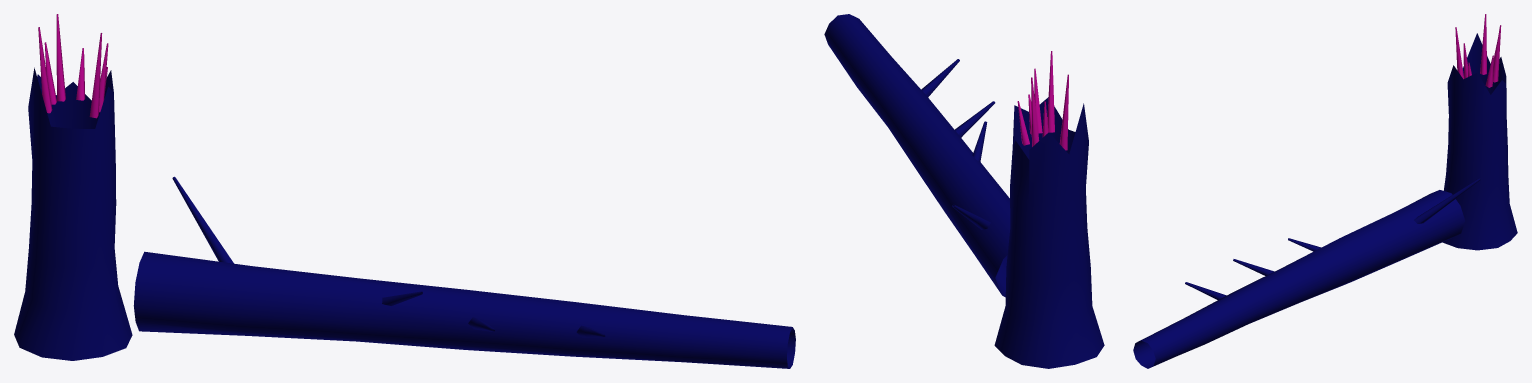
The model's file is PROP_PC_BrokenTree_B.fbx.
3 renders of one model, left to right at view 1: azimuth 30°, elevation 25°; view 2: azimuth 150°, elevation 25°; view 3: azimuth 270°, elevation 25°, orthographic. The views are drawn at different scales.
Visible parts, largest first — view 1: PROP_PC_BrokenTree_B_LOD0; view 2: PROP_PC_BrokenTree_B_LOD0; view 3: PROP_PC_BrokenTree_B_LOD0.
Boxes of the visible parts, x1=… form: PROP_PC_BrokenTree_B_LOD0: x1=14, y1=14, x2=795, y2=368; PROP_PC_BrokenTree_B_LOD0: x1=824, y1=14, x2=1104, y2=368; PROP_PC_BrokenTree_B_LOD0: x1=1133, y1=14, x2=1517, y2=368.
Size of what is drawn, in the model's own units: 7.05 by 3.88 by 6.43.
